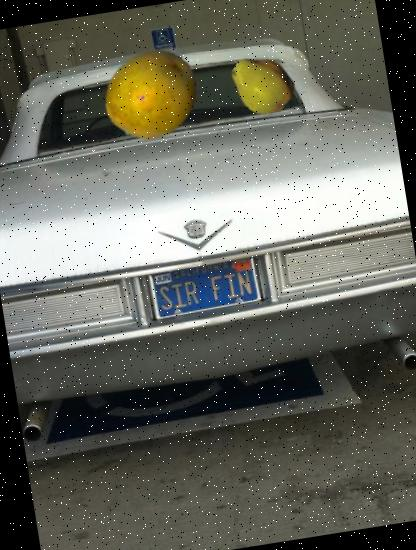Maracuja: (97, 38, 208, 149)
Quince: (224, 47, 302, 125)
